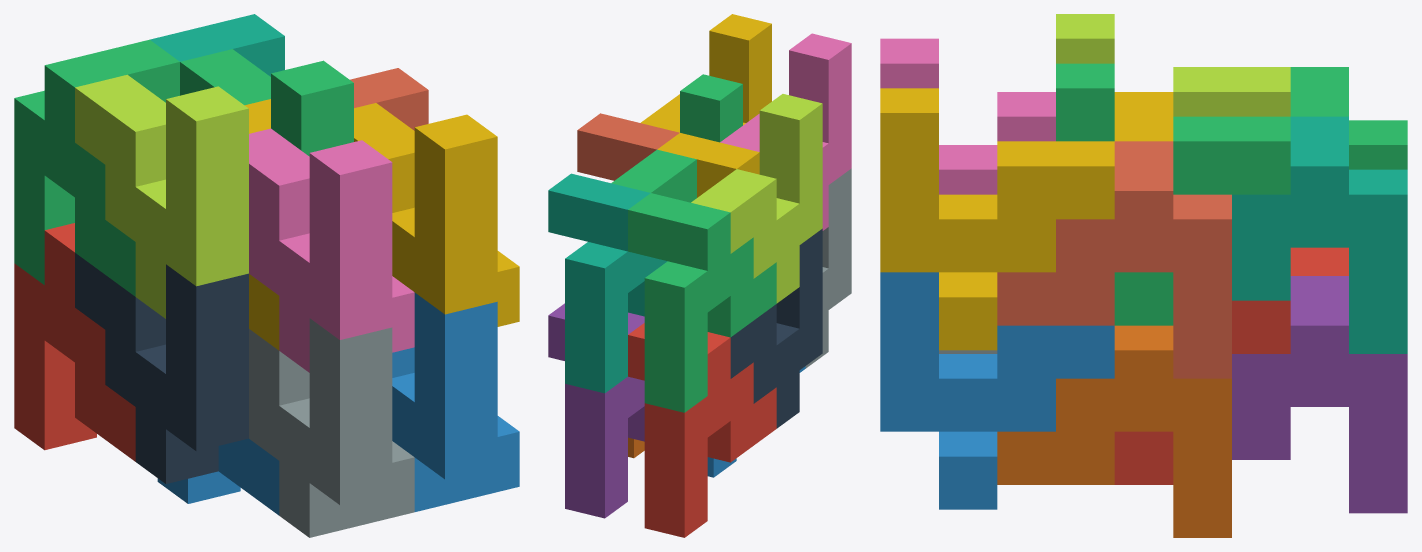
File: tiling.obj
3 renders of one model, left to right at view 1: azimuth 30°, elevation 25°; view 2: azimuth 150°, elevation 25°; view 3: azimuth 270°, elevation 25°, orthographic. The views are drawn at different scales.
Visible parts, largest first — view 1: copy_2_domain_3, copy_2_domain_4, copy_2_domain_2, copy_2_domain_1, copy_2_domain_8, copy_2_domain_6, copy_1_domain_3, copy_1_domain_1, copy_2_domain_7, copy_1_domain_2, copy_1_domain_7, copy_1_domain_8 (+1 smaller); view 2: copy_1_domain_3, copy_1_domain_7, copy_1_domain_1, copy_2_domain_3, copy_1_domain_5, copy_2_domain_1, copy_2_domain_4, copy_2_domain_7, copy_2_domain_8, copy_1_domain_8, copy_2_domain_2, copy_1_domain_4 (+1 smaller); view 3: copy_2_domain_8, copy_1_domain_8, copy_2_domain_6, copy_1_domain_6, copy_1_domain_7, copy_1_domain_5, copy_2_domain_7, copy_2_domain_4, copy_2_domain_3, copy_2_domain_5, copy_1_domain_3, copy_1_domain_4 (+1 smaller).
Part boxes in pixels (x1,y1,x2,y2): copy_2_domain_3: (75, 74, 248, 318); copy_2_domain_4: (249, 128, 414, 372); copy_2_domain_2: (249, 318, 414, 537); copy_2_domain_1: (75, 253, 248, 483); copy_2_domain_8: (354, 103, 519, 326); copy_2_domain_6: (392, 292, 519, 511); copy_1_domain_3: (14, 39, 179, 296); copy_1_domain_1: (14, 223, 135, 461); copy_2_domain_7: (180, 49, 353, 156); copy_1_domain_2: (157, 438, 279, 515); copy_1_domain_7: (150, 14, 284, 76); copy_1_domain_8: (350, 68, 428, 130); copy_1_domain_3: (628, 193, 776, 412); copy_1_domain_7: (548, 173, 667, 393); copy_1_domain_1: (628, 323, 776, 537); copy_2_domain_3: (691, 94, 822, 303); copy_1_domain_5: (548, 303, 644, 518); copy_2_domain_1: (730, 228, 822, 428); copy_2_domain_4: (720, 33, 851, 230); copy_2_domain_7: (611, 74, 742, 202); copy_2_domain_8: (641, 14, 771, 132); copy_1_domain_8: (577, 113, 679, 180); copy_2_domain_2: (805, 168, 851, 368); copy_1_domain_4: (657, 133, 759, 197); copy_2_domain_8: (880, 88, 1114, 350); copy_1_domain_8: (997, 141, 1231, 378); copy_2_domain_6: (880, 272, 1114, 509); copy_1_domain_6: (997, 325, 1231, 537); copy_1_domain_7: (1232, 116, 1407, 353); copy_1_domain_5: (1232, 276, 1407, 513); copy_2_domain_7: (1056, 63, 1290, 325); copy_2_domain_4: (880, 38, 1055, 194); copy_2_domain_3: (1056, 14, 1290, 116); copy_2_domain_5: (1114, 300, 1290, 484); copy_1_domain_3: (1290, 67, 1407, 169); copy_1_domain_4: (1114, 92, 1173, 141).
Bounding box in the file's own units: 5 × 8 × 9.
